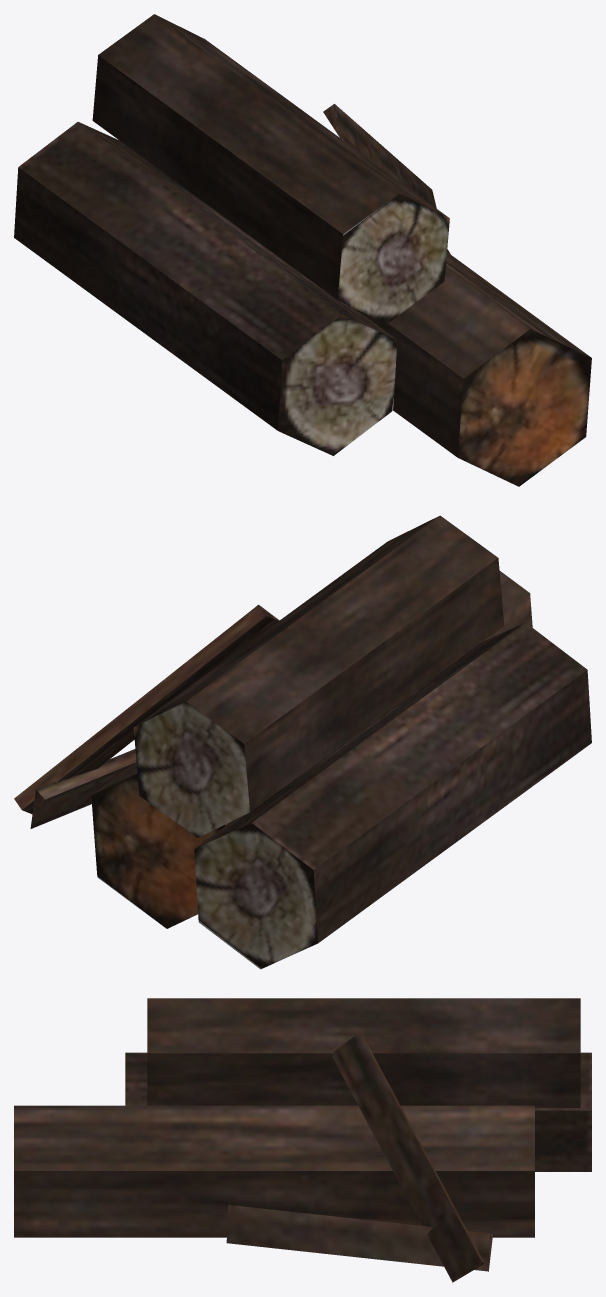
Rendered from Wood2.obj.
The picture shows the model from 3 angles, top to bottom: view 1: azimuth 30°, elevation 25°; view 2: azimuth 150°, elevation 25°; view 3: azimuth 270°, elevation 25°; orthographic projection. The views are drawn at different scales.
Parts seen in each view (by area): view 1: Cylinder02; view 2: Cylinder02; view 3: Cylinder02.
Boxes of the visible parts, x1,y1,x2,y2 form: Cylinder02: (14,14,591,486); Cylinder02: (14,515,591,969); Cylinder02: (14,998,591,1282).
Bounding box in the file's own units: 19.26 × 12.88 × 30.66.
